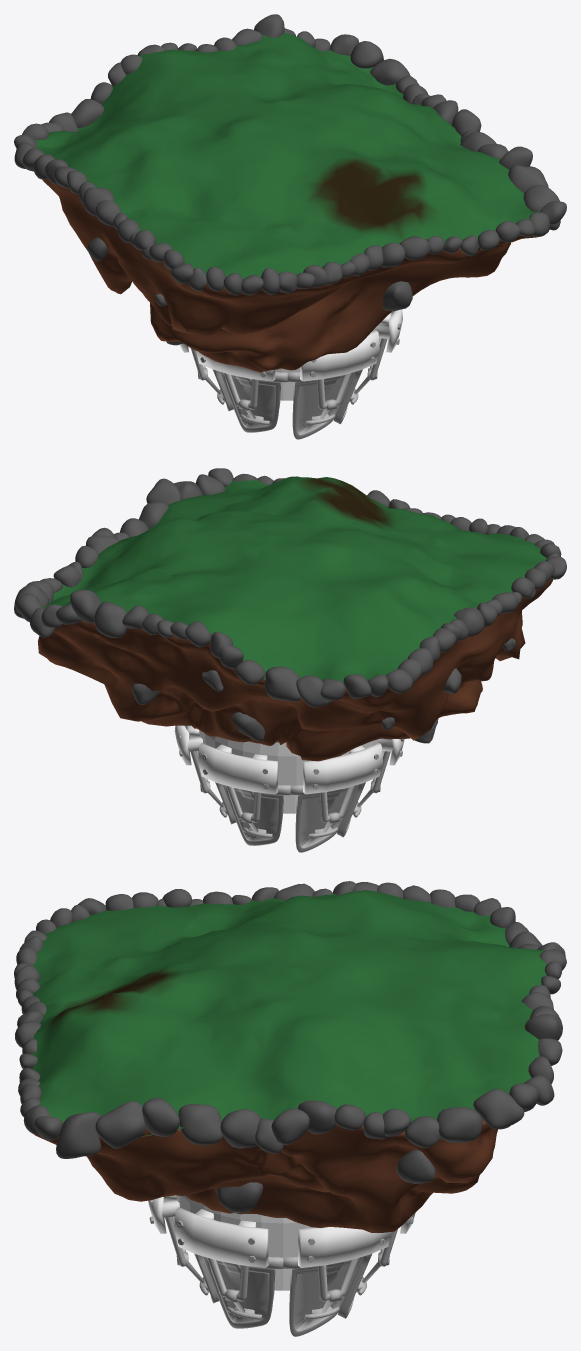
File: landscapepo.fbx
The picture shows the model from 3 angles, top to bottom: view 1: azimuth 30°, elevation 25°; view 2: azimuth 150°, elevation 25°; view 3: azimuth 270°, elevation 25°; orthographic projection. The views are drawn at different scales.
Visible parts, largest first — view 1: Retopo_Landscape.011, Retopo_stones.001, Retopo_Landscape.006, jet_engine.001; view 2: Retopo_Landscape.011, Retopo_Landscape.006, Retopo_stones.001, jet_engine.001; view 3: Retopo_Landscape.011, Retopo_stones.001, Retopo_Landscape.006, jet_engine.001.
Part boxes in pixels (x1,y1,x2,y2): Retopo_Landscape.011: (34, 33, 536, 279); Retopo_stones.001: (14, 14, 566, 345); Retopo_Landscape.006: (42, 178, 537, 372); jet_engine.001: (179, 309, 402, 439); Retopo_Landscape.011: (42, 476, 546, 683); Retopo_Landscape.006: (38, 507, 553, 761); Retopo_stones.001: (14, 468, 566, 743); jet_engine.001: (174, 725, 404, 852); Retopo_Landscape.011: (30, 890, 546, 1136); Retopo_stones.001: (14, 881, 566, 1212); Retopo_Landscape.006: (34, 915, 497, 1232); jet_engine.001: (148, 1195, 415, 1336).
Bounding box in the file's own units: 20672 × 15083 × 21444.
